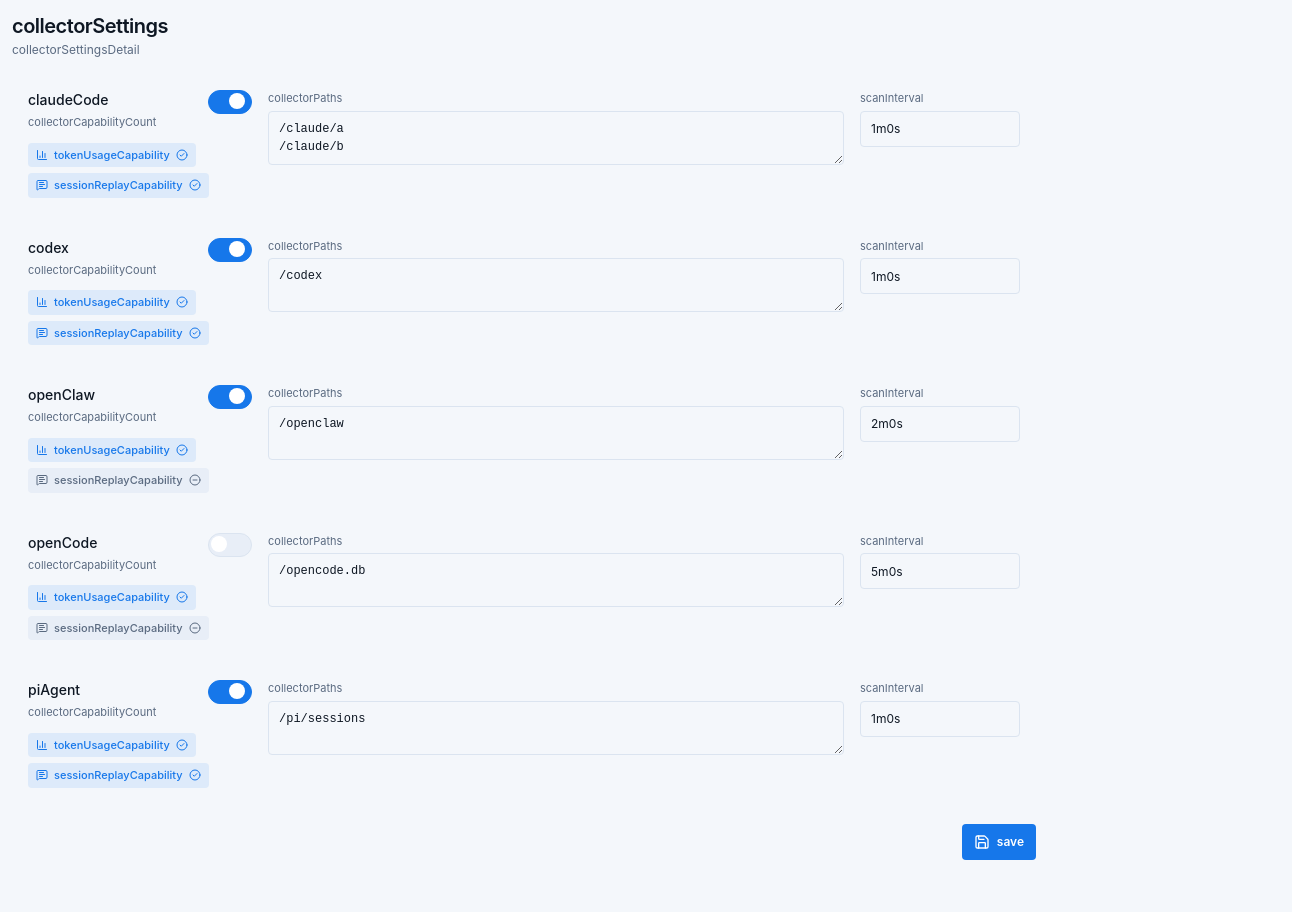
Test: application settings › retries only the restart when settings were saved but not applied
Click the button with aria-label "saveCollectorSettings" at (999, 842), box [962,824,1036,860]
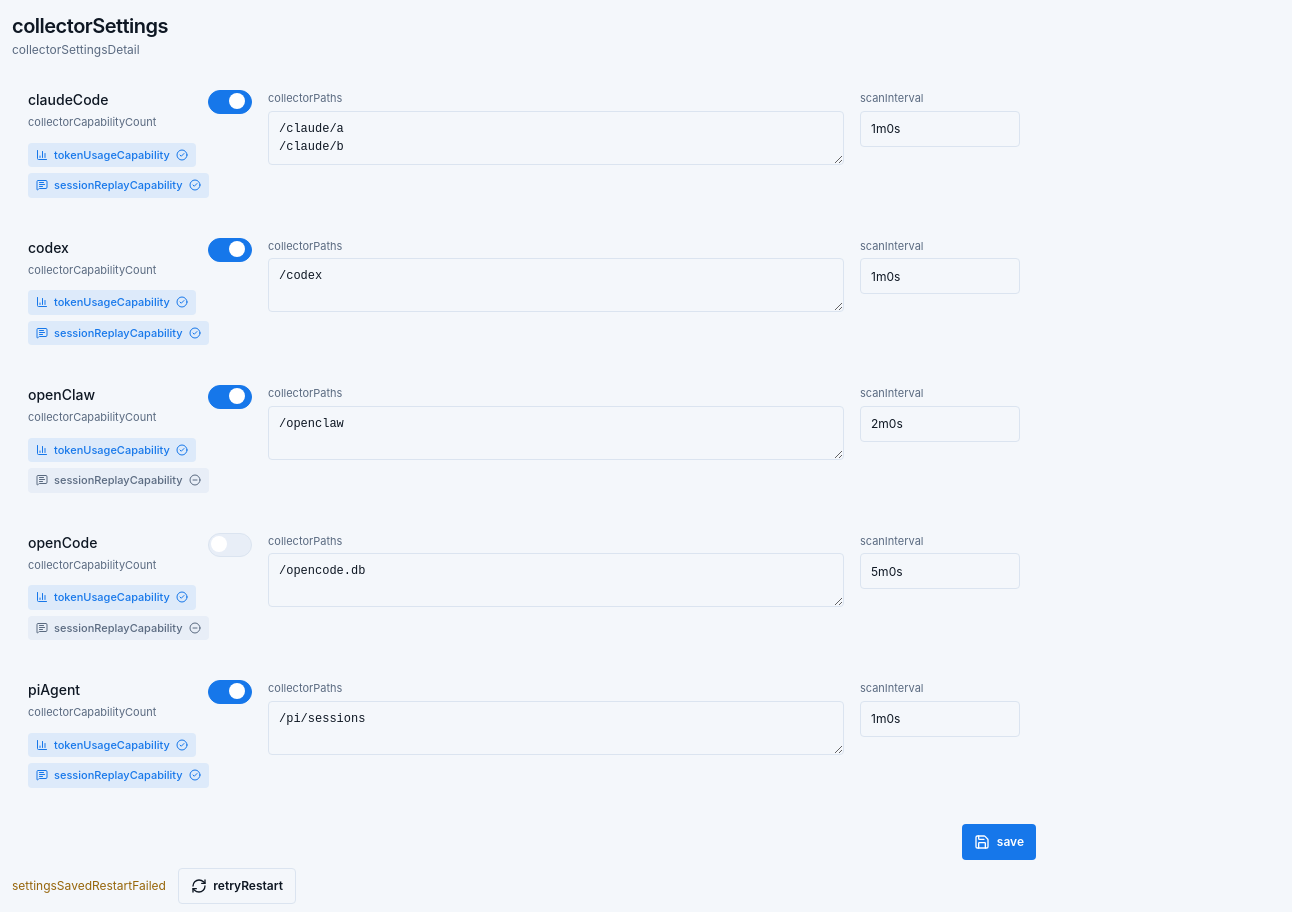
Now the text "settingsSavedRestartFailed" is shown, box [12,878,166,894]
Click the button "retryRestart" at (237, 886), box [178,868,296,904]
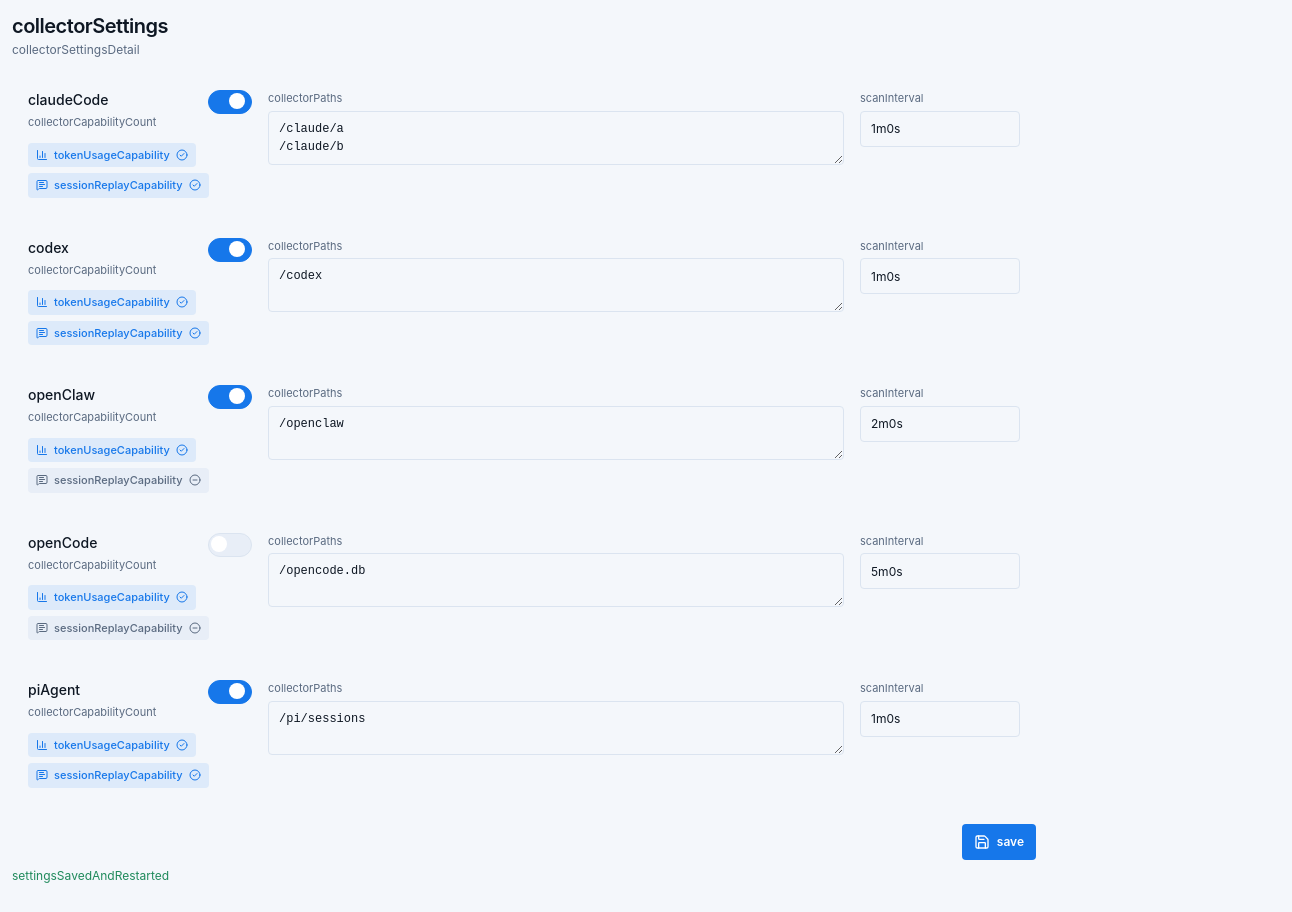
Now the text "settingsSavedAndRestarted" is shown, box [12,868,169,882]
